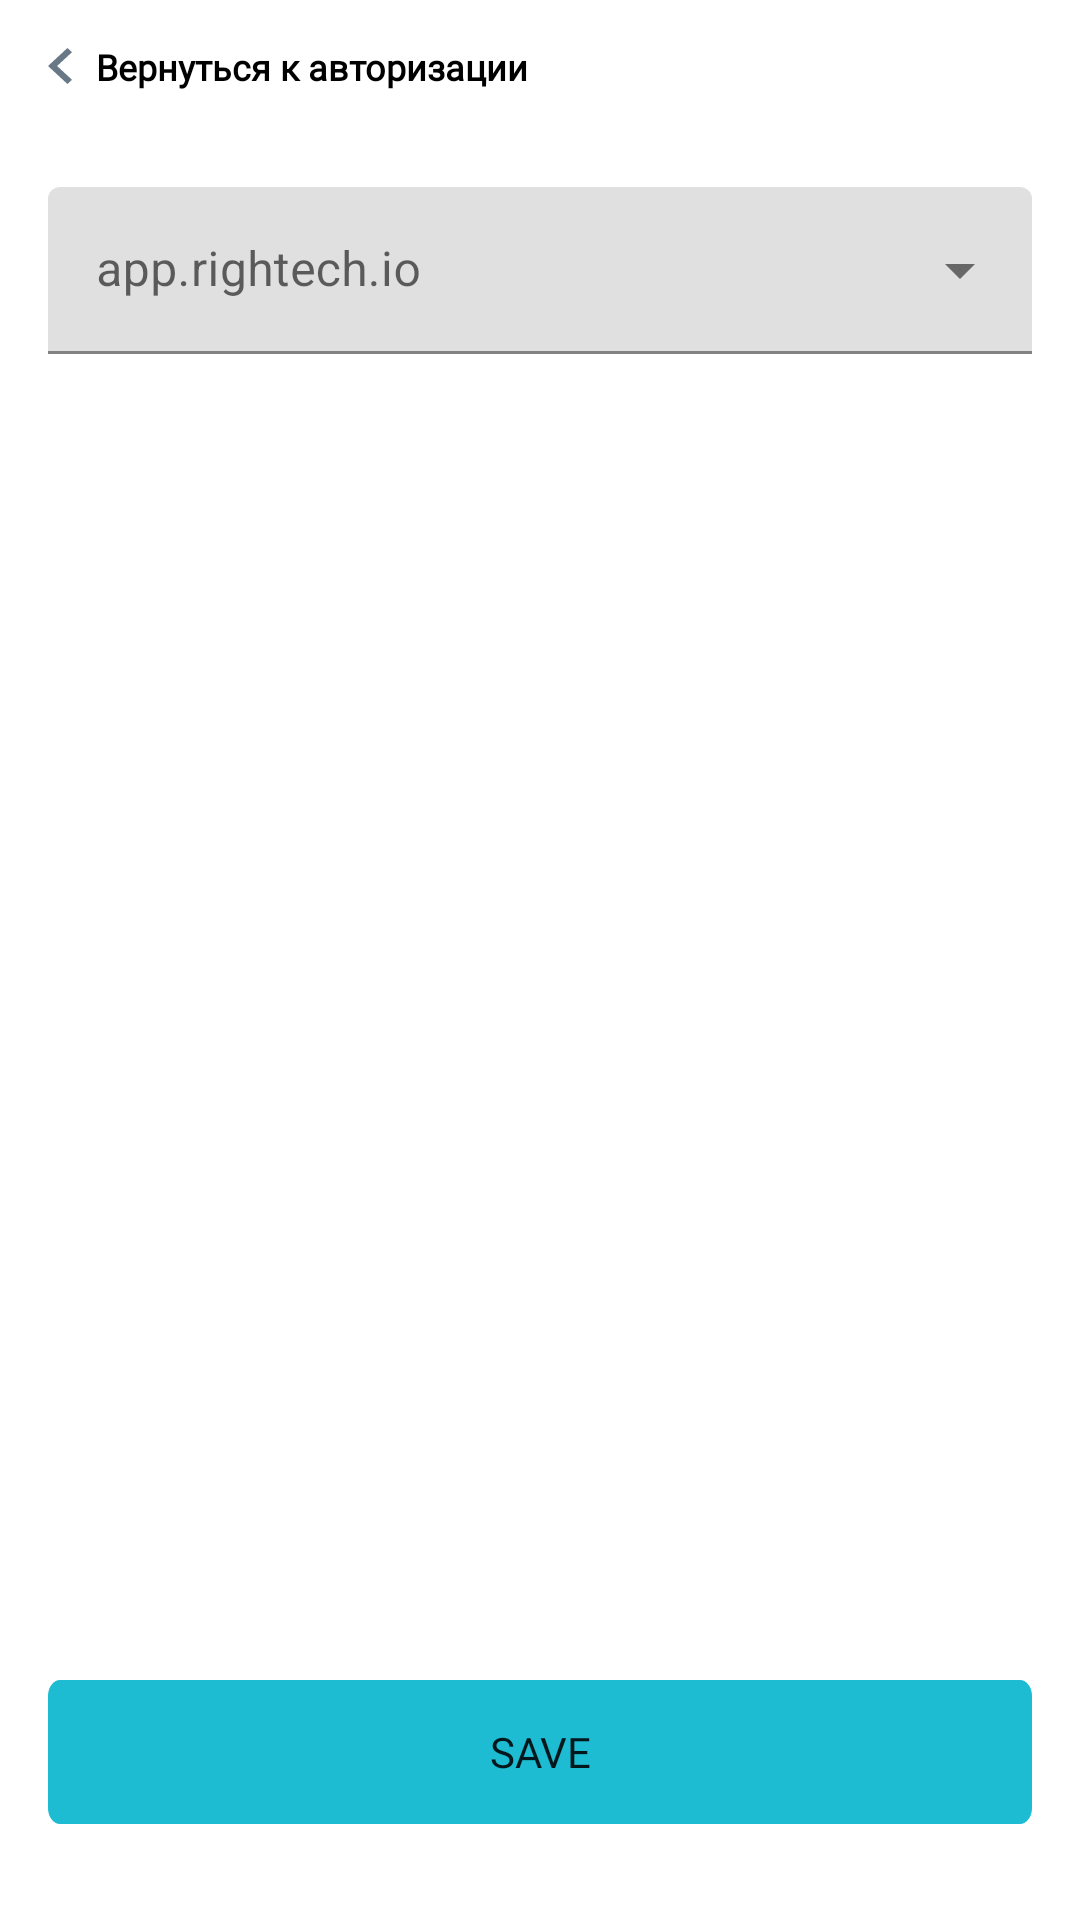

Where icons sit on this 1080px×1920px app screen, as (x1, y1, x2, y2):
back: (48, 48, 72, 84)
